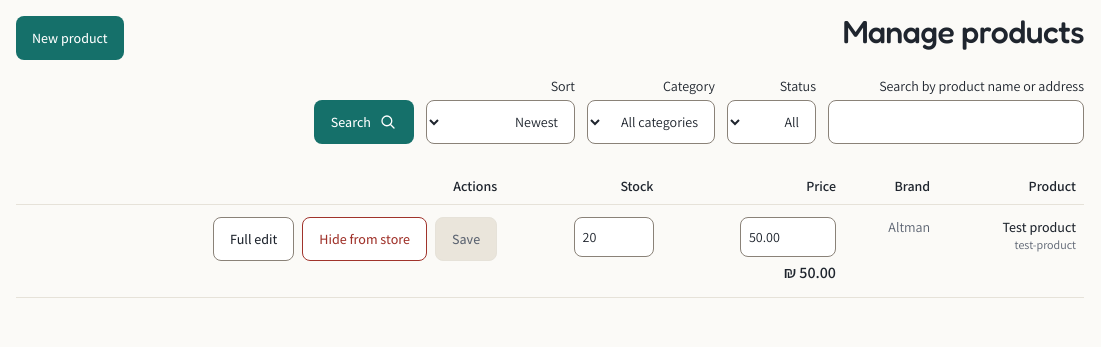
🔴 inline save — only the CHANGED fields travel › a price edit PATCHes { price } alone, and the row re-renders from the answer
Expected: the text "Test product" is shown, x1=1002 y1=218 x2=1076 y2=236
Replace the text in the 2nd field named "Price for" with "44.90" at (788, 237), box x1=740 y1=217 x2=836 y2=257
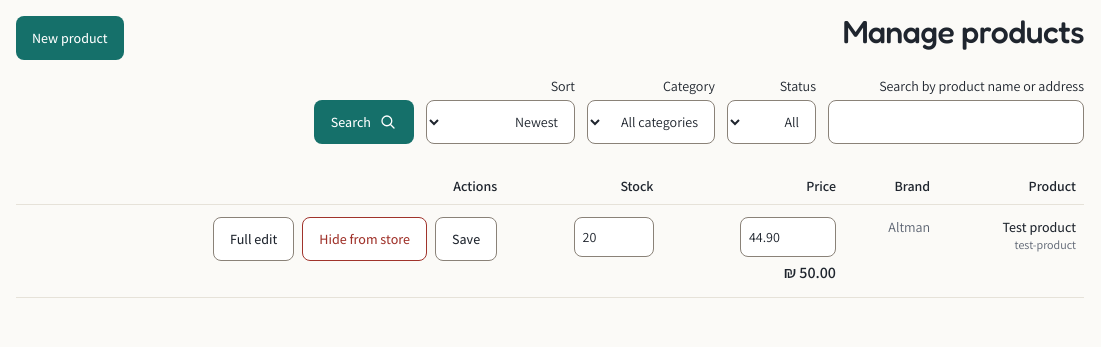
Click the button "Save" at (466, 239), box x1=435 y1=217 x2=497 y2=261
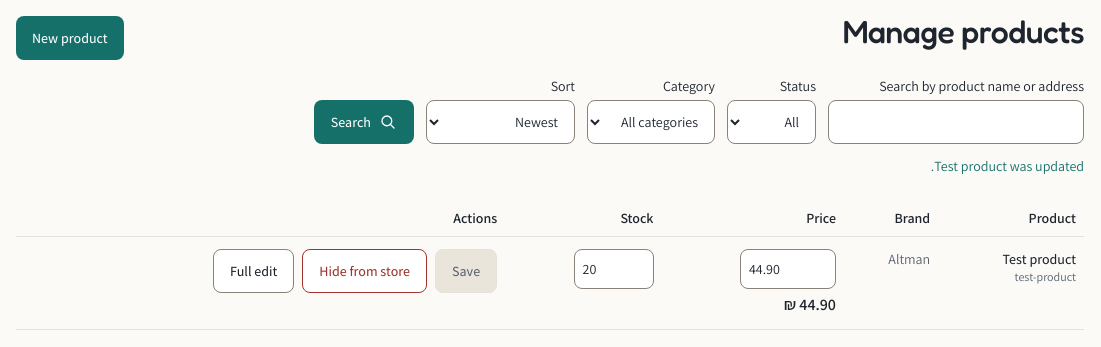
Expected: the button "Save" is shown, x1=435 y1=249 x2=497 y2=293
Result: the message shows "was updated" at x1=931 y1=157 x2=1084 y2=175
